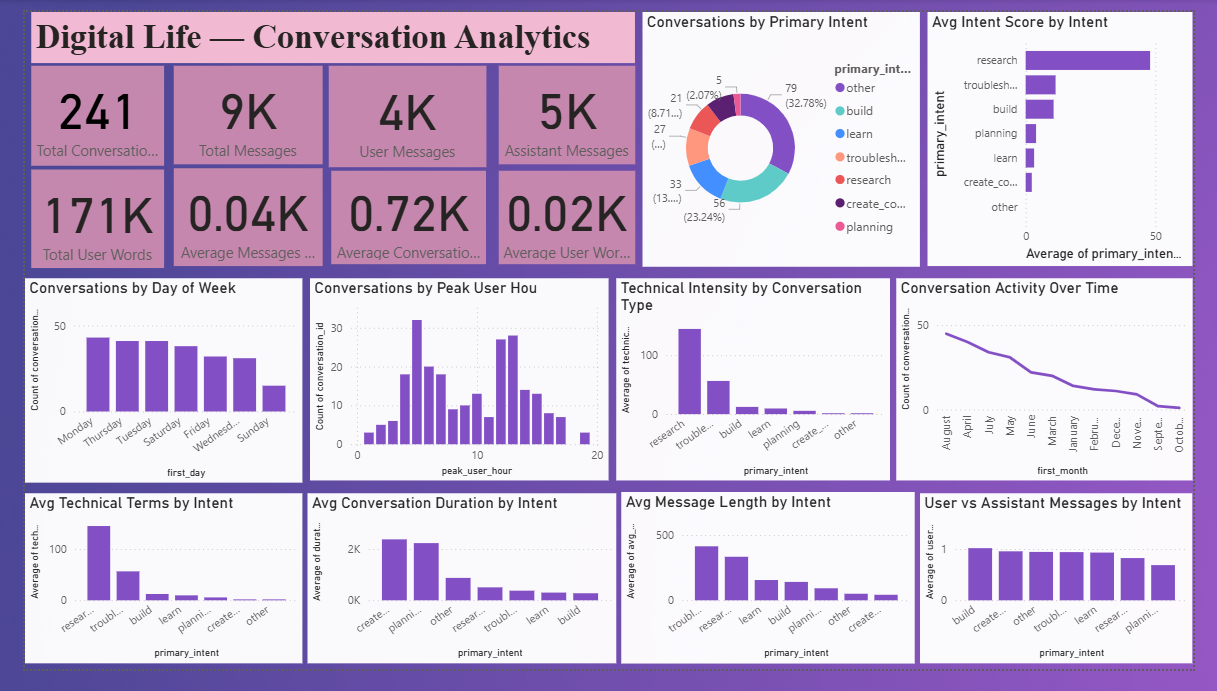

Layout of this report page (visuals, bound fields, positions):
{"tool":"powerbi","page":{"name":"Page 1","canvas":[1280,720],"ordinal":0},"visuals":[{"type":"card","fields":{"Values":["Fact_Conversations.Total Conversations"]},"box":[6.8,58.9,145.2,109.6],"z":0},{"type":"card","fields":{"Values":["Fact_Conversations.Total Messages"]},"box":[163,58.9,163,108.2],"z":1000},{"type":"card","fields":{"Values":["Fact_Conversations.User Messages"]},"box":[332.9,58.9,172.6,111],"z":2000},{"type":"card","fields":{"Values":["Fact_Conversations.Total User Words"]},"box":[6.8,172.6,145.2,108.2],"z":3000},{"type":"card","fields":{"Values":["Fact_Conversations.Assistant Messages"]},"box":[519.2,58.9,149.3,108.2],"z":4000},{"type":"lineChart","title":"Conversation Activity Over Time","fields":{"Category":["Fact_Conversations.first_month"],"Y":["CountNonNull(Fact_Conversations.conversation_id)"]},"box":[954.8,291.8,324.7,221.9],"z":5000},{"type":"card","fields":{"Values":["Fact_Conversations.Average Messages per Conversation"]},"box":[163,171.2,163,106.8],"z":6000},{"type":"card","fields":{"Values":["Fact_Conversations.Average Conversation Duration"]},"box":[335.6,174,169.9,102.7],"z":7000},{"type":"clusteredColumnChart","title":"User vs Assistant Messages by Intent","fields":{"Category":["Fact_Conversations.primary_intent"],"Y":["Avg(Fact_Conversations.user_assistant_ratio)"]},"box":[981.4,527.4,298.6,186.3],"z":8000},{"type":"card","fields":{"Values":["Fact_Conversations.Average User Words"]},"box":[519.2,174,149.3,102.7],"z":9000},{"type":"clusteredBarChart","title":"Avg Intent Score by Intent","fields":{"Category":["Fact_Conversations.primary_intent"],"Y":["Avg(Fact_Conversations.primary_intent_score)"]},"box":[989,0,290.4,278.1],"z":10000},{"type":"clusteredColumnChart","title":"Technical Intensity by Conversation Type","fields":{"Category":["Fact_Conversations.primary_intent"],"Y":["Avg(Fact_Conversations.technical_term_count)"]},"box":[647.9,291.8,300,221.9],"z":11000},{"type":"clusteredColumnChart","title":"Conversations by Day of Week","fields":{"Category":["Fact_Conversations.first_day"],"Y":["CountNonNull(Fact_Conversations.conversation_id)"]},"box":[0,291.8,304.1,224],"z":12000},{"type":"clusteredColumnChart","title":"Conversations by Peak User Hou","fields":{"Y":["CountNonNull(Fact_Conversations.conversation_id)"],"Category":["Fact_Conversations.peak_user_hour"]},"box":[312.3,291.8,327.4,221.9],"z":13000},{"type":"donutChart","title":"Conversations by Primary Intent","fields":{"Y":["CountNonNull(Fact_Conversations.conversation_id)"],"Category":["Fact_Conversations.primary_intent"]},"box":[676.7,0,304.1,279.5],"z":14000},{"type":"clusteredColumnChart","title":"Avg Message Length by Intent","fields":{"Category":["Fact_Conversations.primary_intent"],"Y":["Avg(Fact_Conversations.avg_user_message_length)"]},"box":[653.4,526,321.9,187.7],"z":15000},{"type":"clusteredColumnChart","title":"Avg Conversation Duration by Intent","fields":{"Category":["Fact_Conversations.primary_intent"],"Y":["Avg(Fact_Conversations.duration_minutes)"]},"box":[309.6,527.4,338.4,186.3],"z":16000},{"type":"clusteredColumnChart","title":"Avg Technical Terms by Intent","fields":{"Category":["Fact_Conversations.primary_intent"],"Y":["Avg(Fact_Conversations.technical_term_count)"]},"box":[0,527.4,304.1,186.3],"z":17000},{"type":"textbox","box":[6.8,0,661.6,56.2],"z":17001}]}

Visuals, with their boxes in screenshot pixels (x1, y1, x2, y2), scaled from the page's 1280x720 canvas onto the 1217x691 screenshot:
card - Fact_Conversations.Total Conversations: 6:57:145:162
card - Fact_Conversations.Total Messages: 155:57:310:160
card - Fact_Conversations.User Messages: 317:57:481:163
card - Fact_Conversations.Total User Words: 6:166:145:269
card - Fact_Conversations.Assistant Messages: 494:57:636:160
"Conversation Activity Over Time" lineChart: 908:280:1216:493
card - Fact_Conversations.Average Messages per Conversation: 155:164:310:267
card - Fact_Conversations.Average Conversation Duration: 319:167:481:266
"User vs Assistant Messages by Intent" clusteredColumnChart: 933:506:1216:685
card - Fact_Conversations.Average User Words: 494:167:636:266
"Avg Intent Score by Intent" clusteredBarChart: 940:0:1216:267
"Technical Intensity by Conversation Type" clusteredColumnChart: 616:280:901:493
"Conversations by Day of Week" clusteredColumnChart: 0:280:289:495
"Conversations by Peak User Hou" clusteredColumnChart: 297:280:608:493
"Conversations by Primary Intent" donutChart: 643:0:933:268
"Avg Message Length by Intent" clusteredColumnChart: 621:505:927:685
"Avg Conversation Duration by Intent" clusteredColumnChart: 294:506:616:685
"Avg Technical Terms by Intent" clusteredColumnChart: 0:506:289:685
textbox: 6:0:636:54
